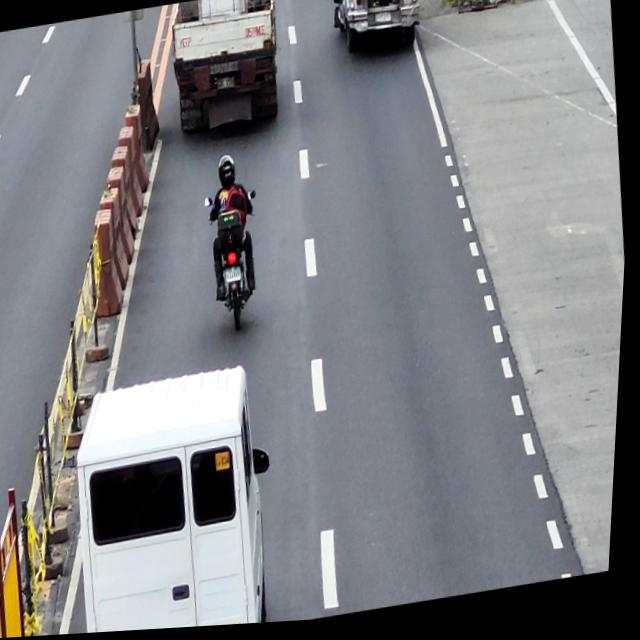Car: (65, 359, 297, 636)
Jeep: (327, 0, 425, 67)
License-Plate: (215, 76, 237, 94), (226, 268, 245, 286), (374, 15, 392, 30)
Motorcycle: (200, 188, 273, 340)
Truck: (163, 0, 291, 145)
